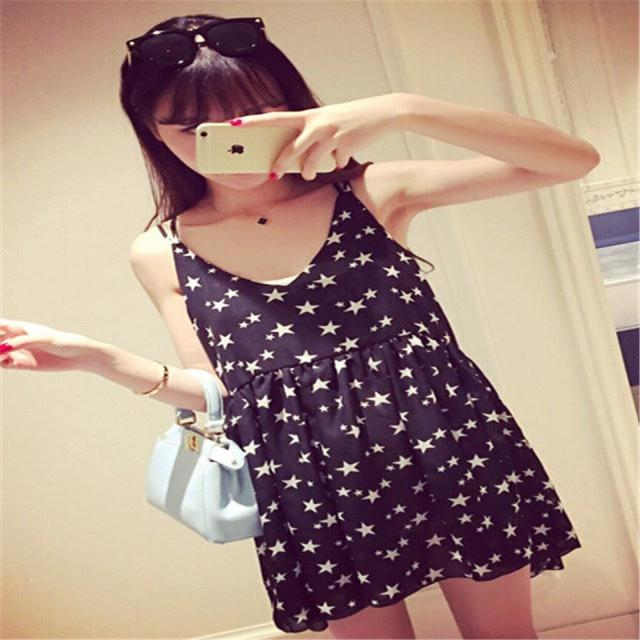sling dress: (158, 168, 583, 633)
